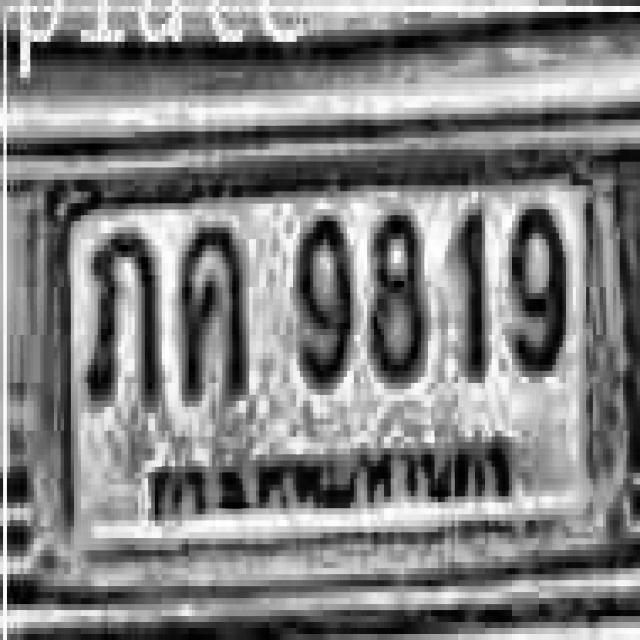license-plate: (23, 141, 640, 596)
